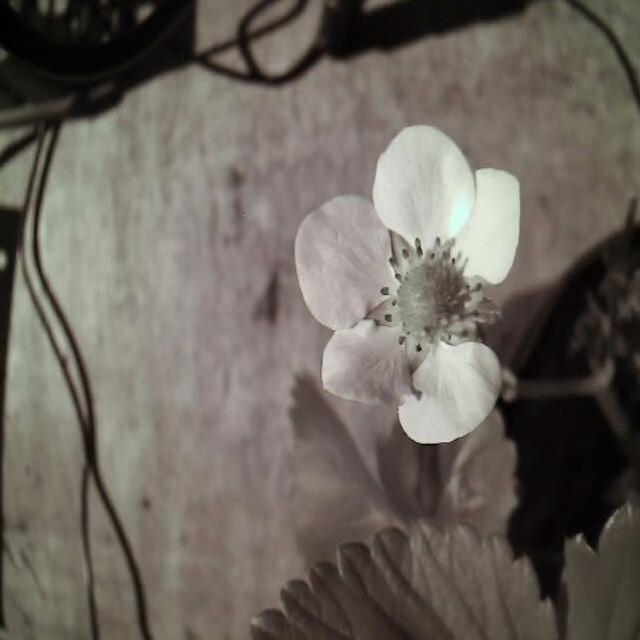flower: (294, 123, 522, 454)
